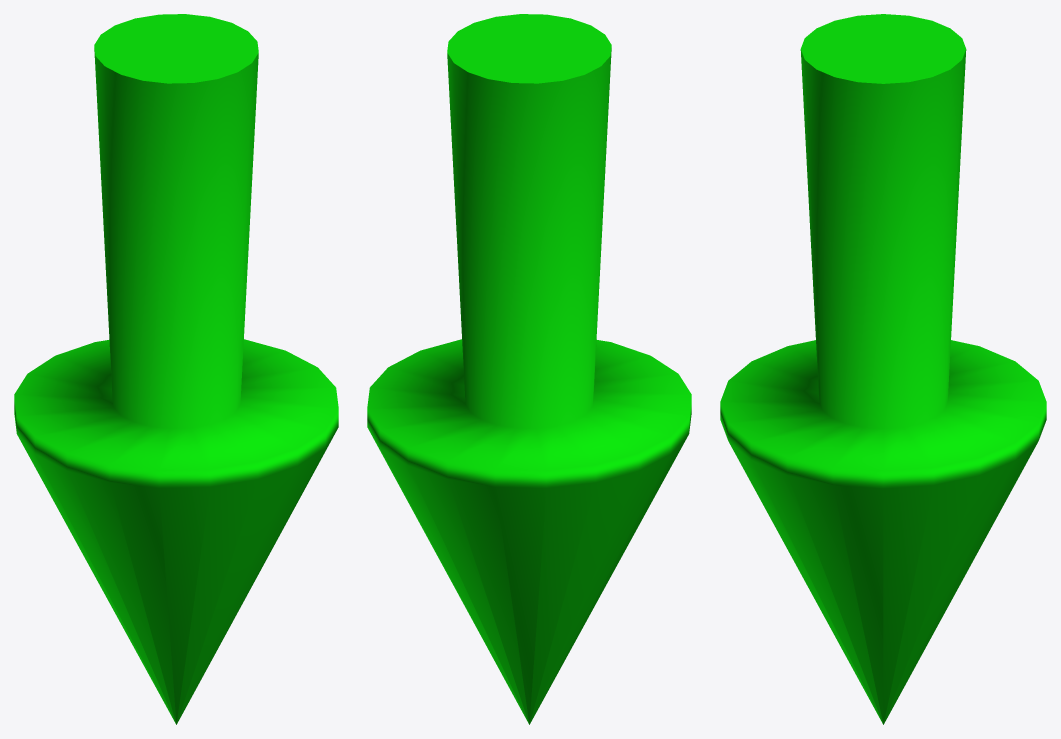
File: Arrow.fbx
3 views of the same model, side by side, from view 1: azimuth 30°, elevation 25°; view 2: azimuth 150°, elevation 25°; view 3: azimuth 270°, elevation 25° (orthographic).
Parts seen in each view (by area): view 1: pCylinder1; view 2: pCylinder1; view 3: pCylinder1.
Boxes of the visible parts, bbox=[...] form: pCylinder1: bbox=[14, 14, 338, 724]; pCylinder1: bbox=[367, 14, 691, 724]; pCylinder1: bbox=[720, 14, 1046, 724].
Bounding box in the file's own units: 8.07 × 18.44 × 8.07.
